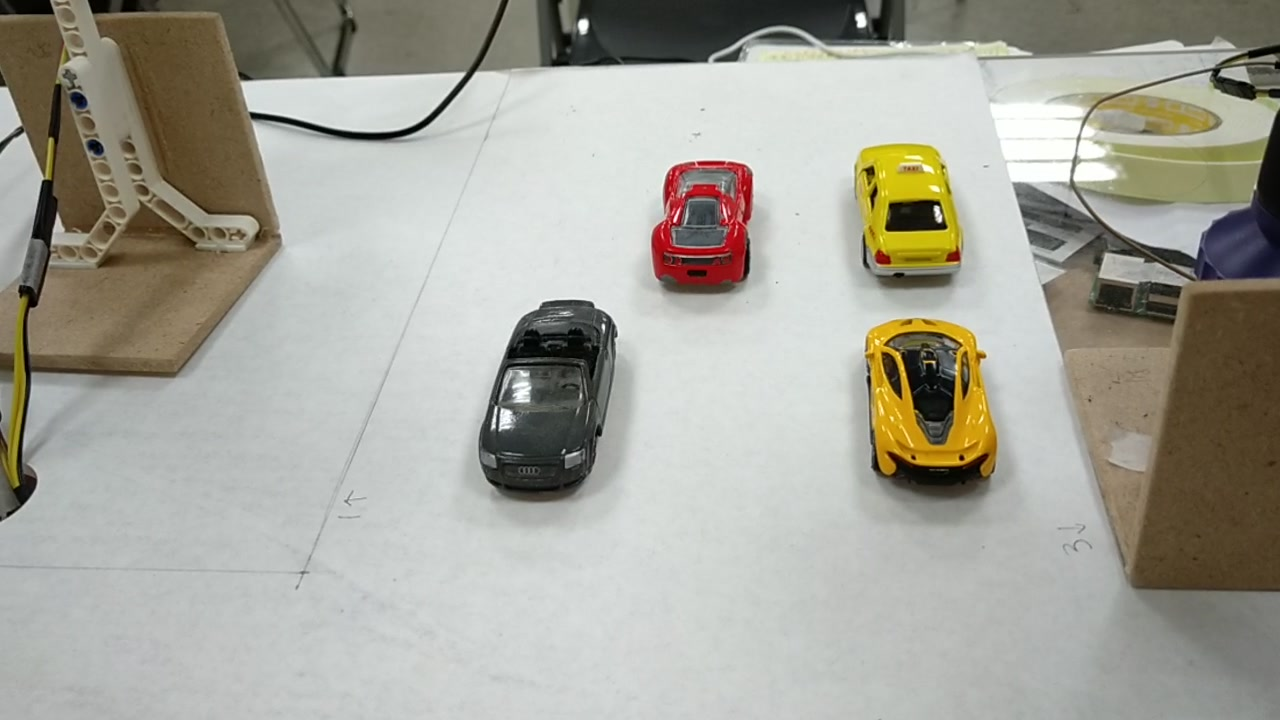car: (475, 293, 616, 497), (867, 308, 994, 480), (656, 155, 762, 287), (862, 139, 962, 278)
